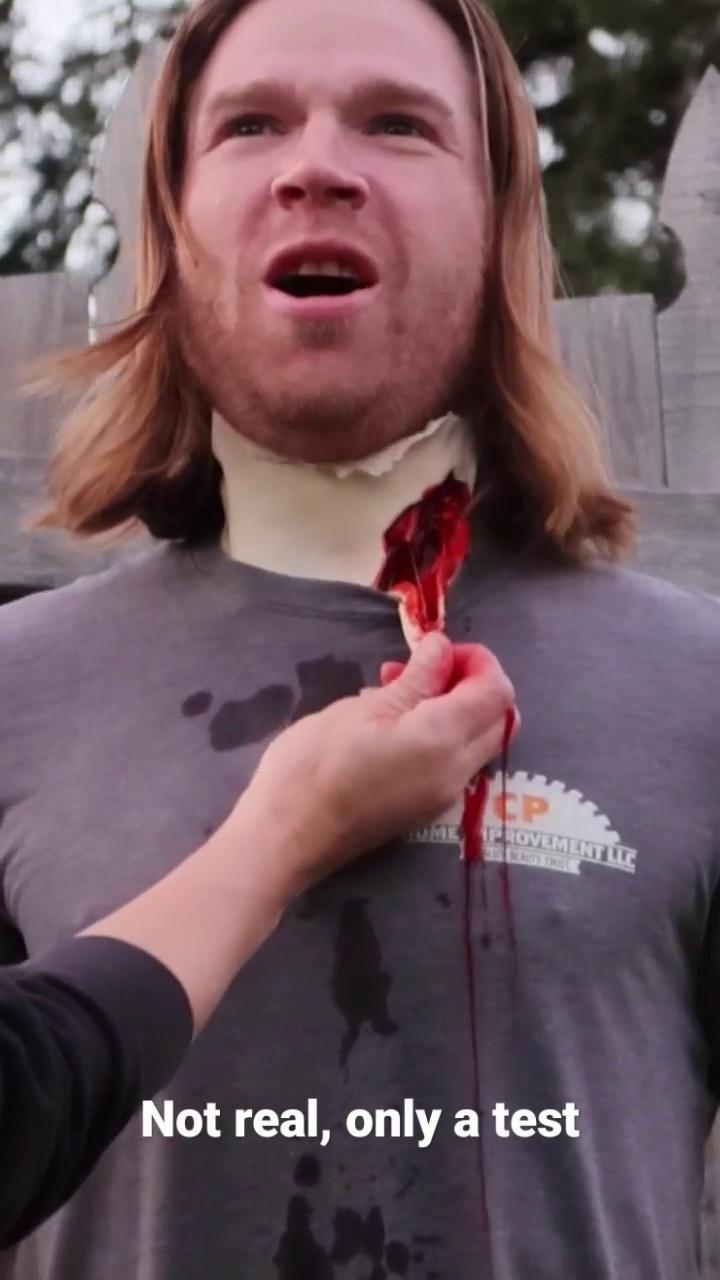Fire: (461, 770, 518, 1120), (375, 474, 471, 646), (475, 1144, 511, 1280), (496, 744, 509, 852)
